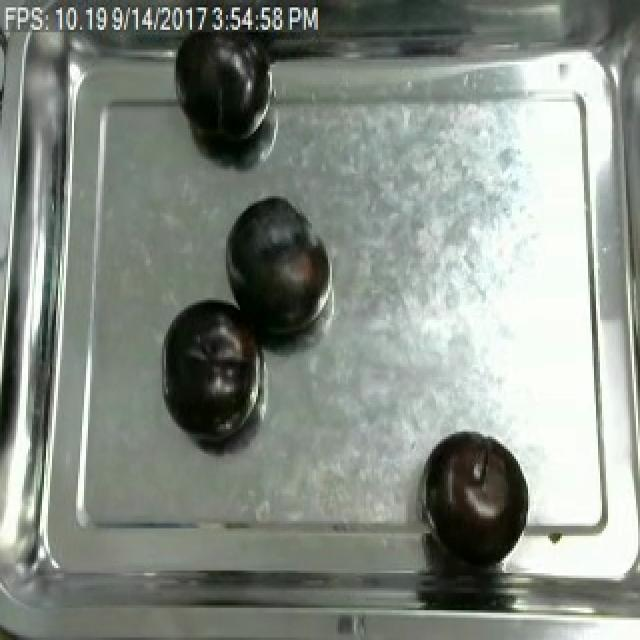Fruit: (222, 188, 330, 345), (156, 293, 264, 442), (422, 426, 530, 560)
